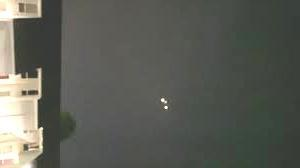Plane: (149, 87, 182, 116)
